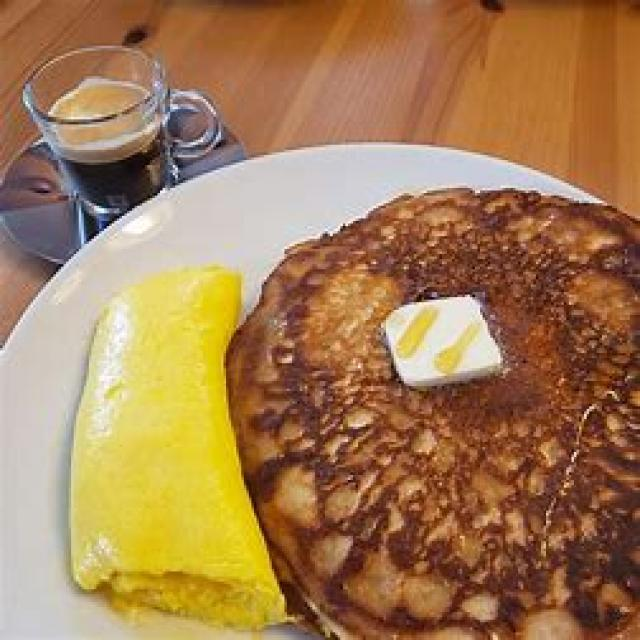Omelette: (66, 251, 269, 612)
Pancakes: (242, 175, 638, 638)
